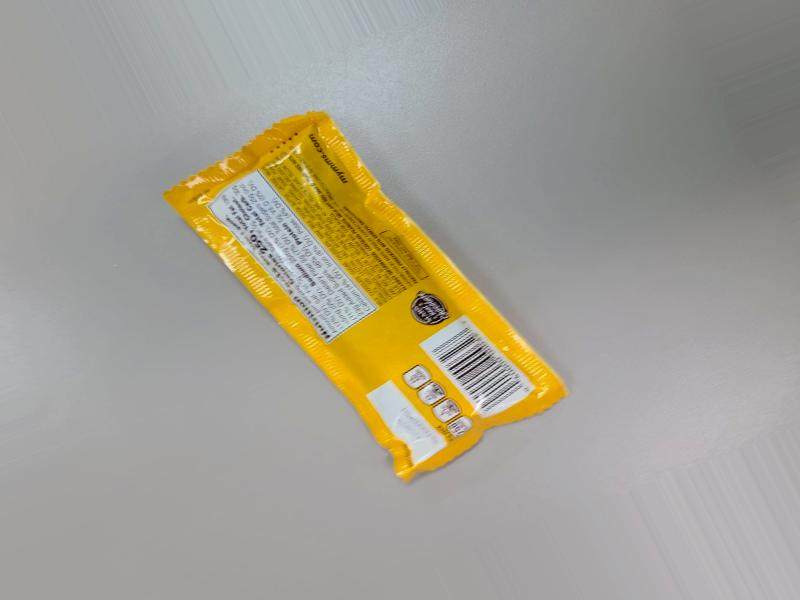m&m: (203, 105, 535, 487)
